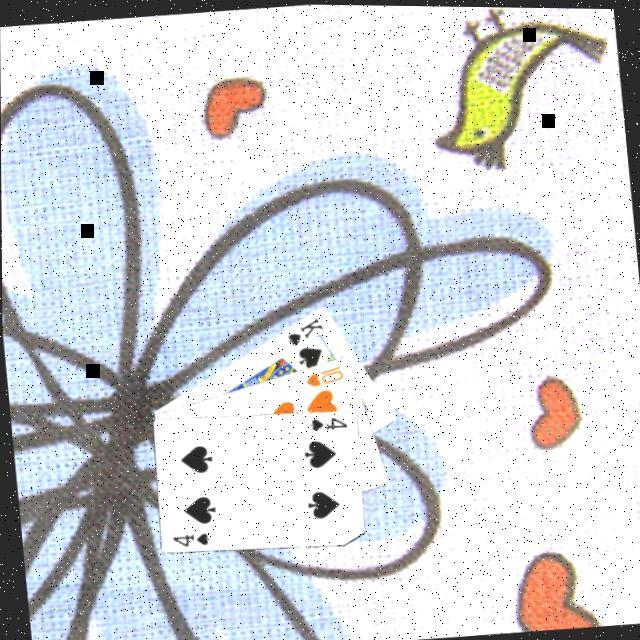10H: (302, 361, 348, 392)
4S: (306, 412, 351, 436), (171, 528, 214, 552)
KS: (283, 313, 328, 350)
